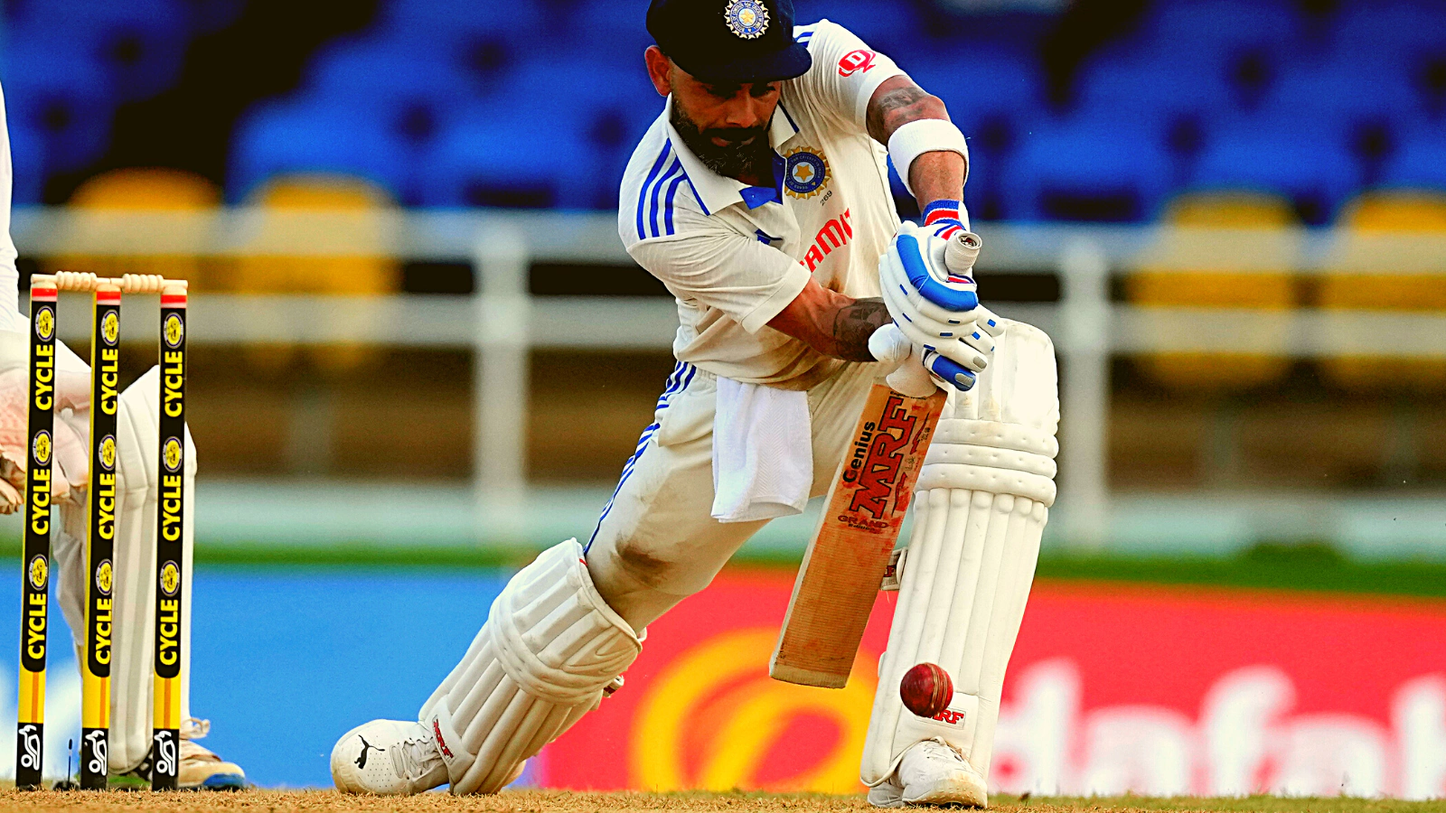Defence: (343, 0, 1146, 813)
